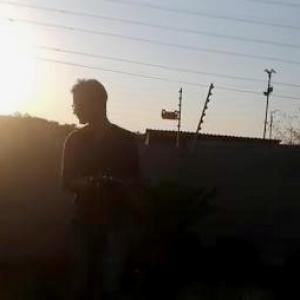follow: (56, 76, 148, 298)
